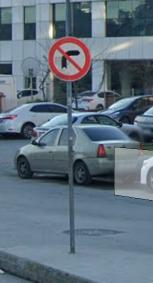rightturnsareforbidden: (50, 38, 89, 80)
